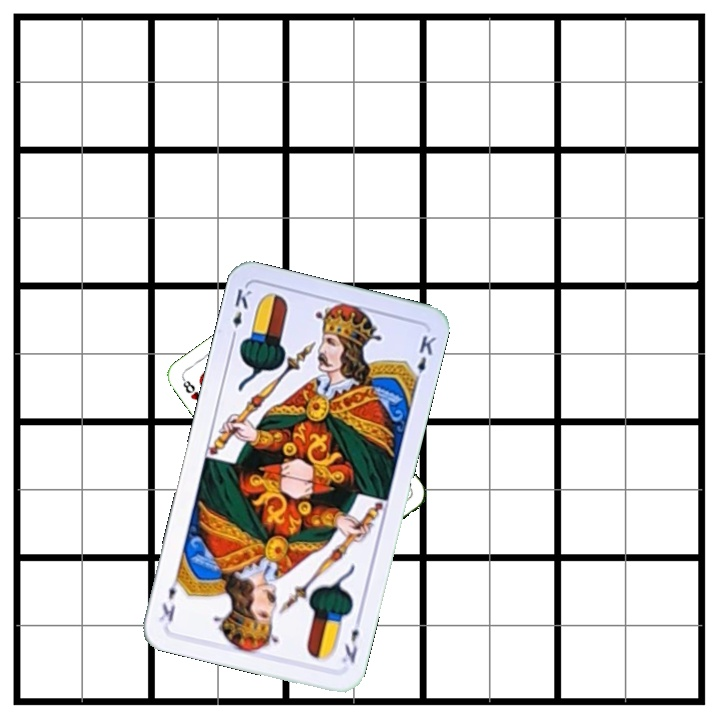EK: (227, 284, 254, 343), (338, 611, 364, 666)
H8: (178, 374, 202, 403)
